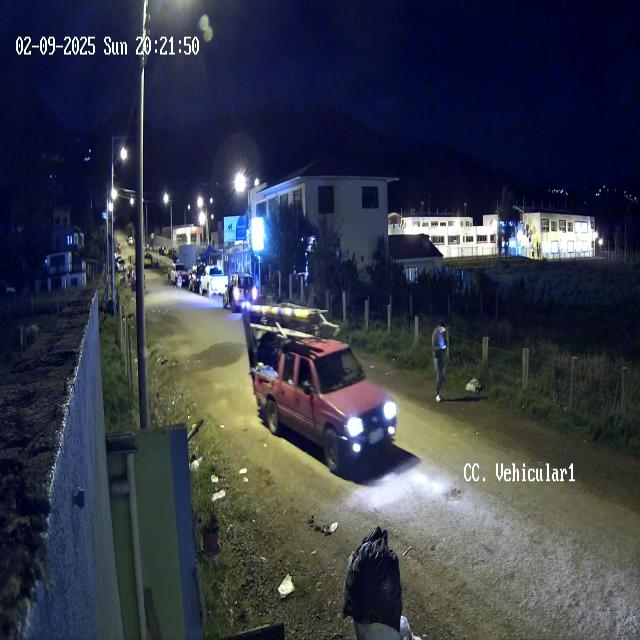CMT: (253, 335, 398, 474)
